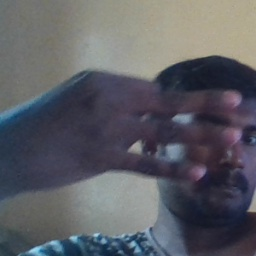K: (9, 67, 247, 200)
